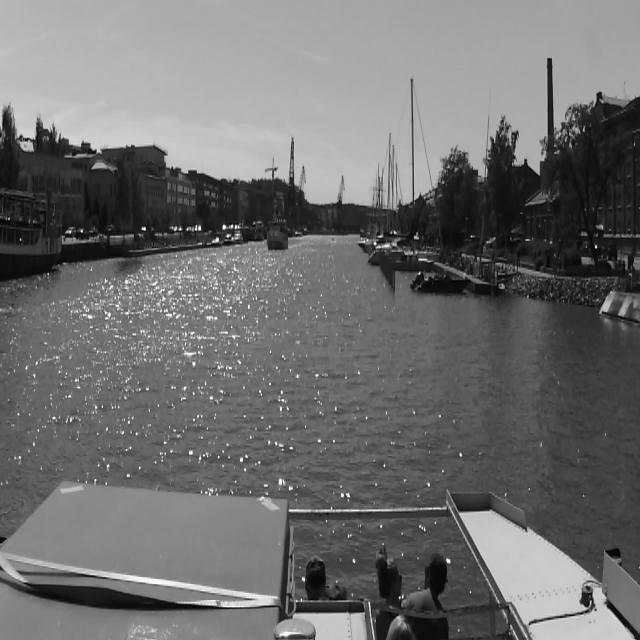ship: (363, 107, 423, 265), (1, 202, 61, 272), (412, 271, 469, 296), (392, 242, 427, 269), (267, 220, 287, 252), (224, 232, 233, 244), (234, 233, 242, 244), (212, 238, 222, 244)
